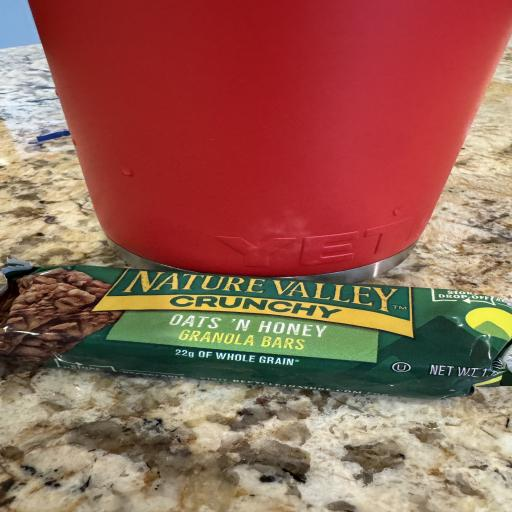granola: (0, 261, 511, 397)
